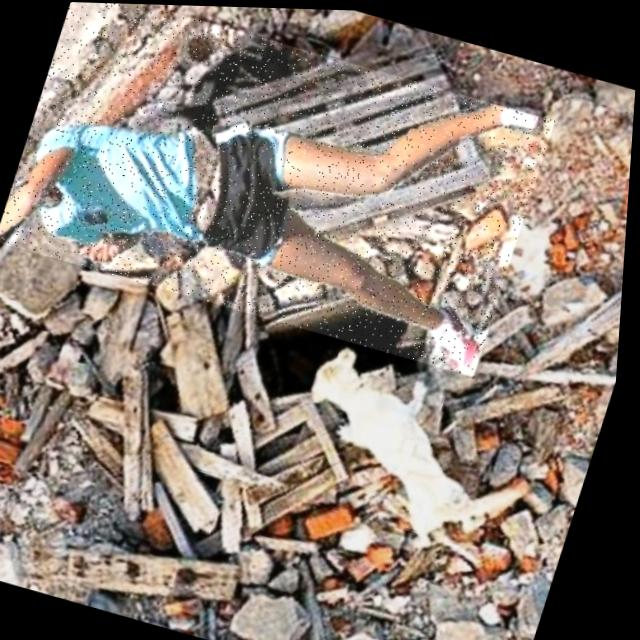Person in Rubble: (0, 0, 561, 374)
